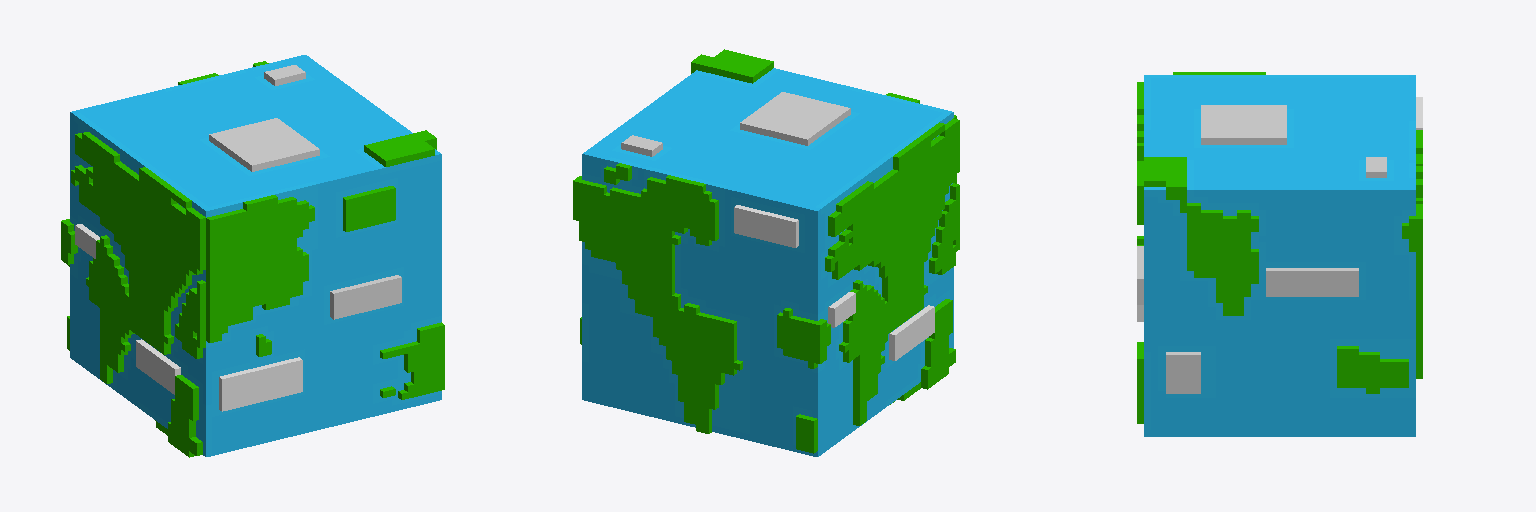
3 renders of one model, left to right at view 1: azimuth 30°, elevation 25°; view 2: azimuth 150°, elevation 25°; view 3: azimuth 270°, elevation 25°, orthographic.
Visible parts, largest first — view 1: object 1; view 2: object 1; view 3: object 1.
Part boxes in pixels (left/top/right/bottom): object 1: left=61, top=55, right=444, bottom=457; object 1: left=573, top=49, right=959, bottom=456; object 1: left=1137, top=72, right=1422, bottom=436.
Size of the model in its own units: 4 by 4 by 4.
Materials: 1 (1 with a texture image).